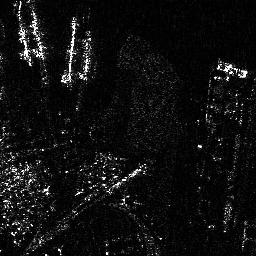ship: (217, 58, 248, 79)
